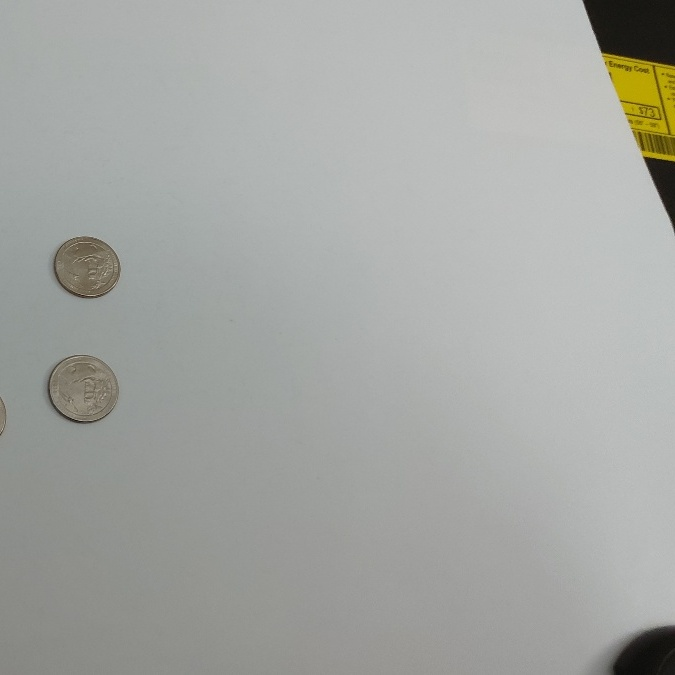coin_quarter: (42, 351, 123, 429), (46, 229, 130, 304)
